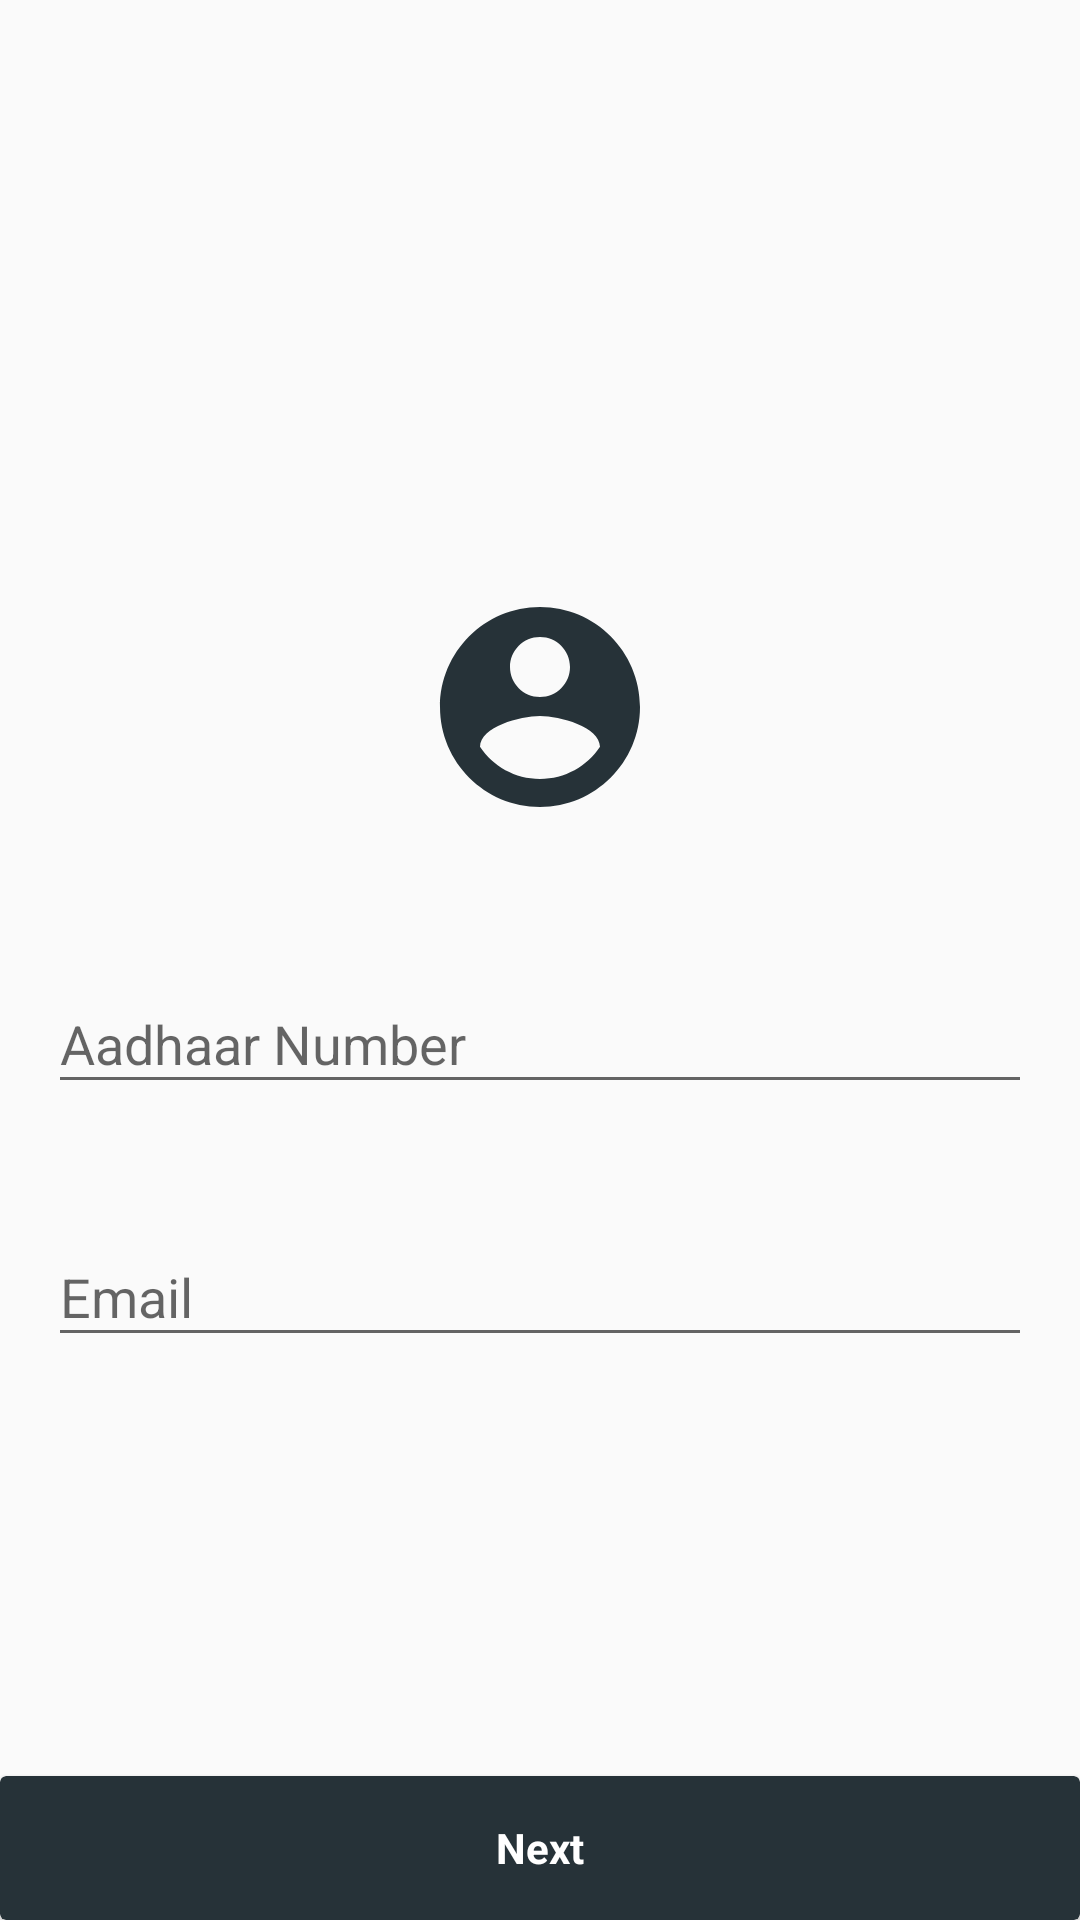

Screen size 1080x1920. Icon name, then its box in pixels as (x1, y1, x2, y2):
account circle: (440, 607, 640, 807)
